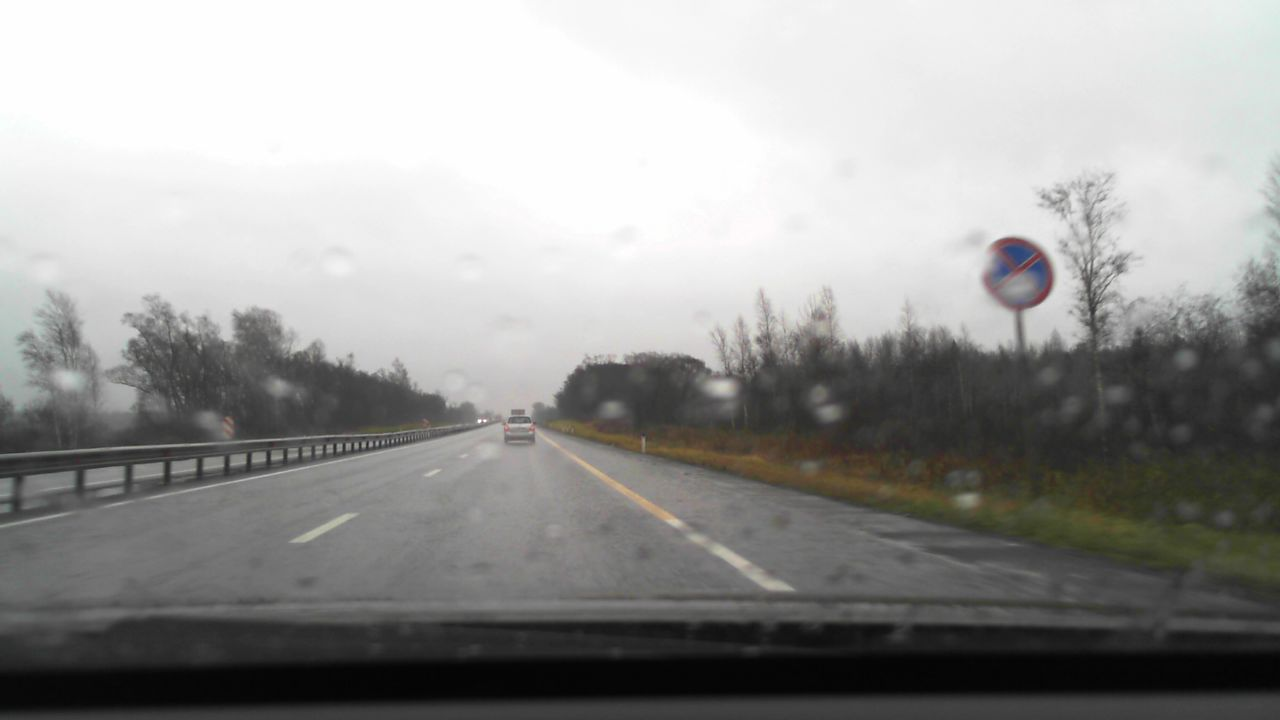No Parking: (981, 237, 1054, 312)
